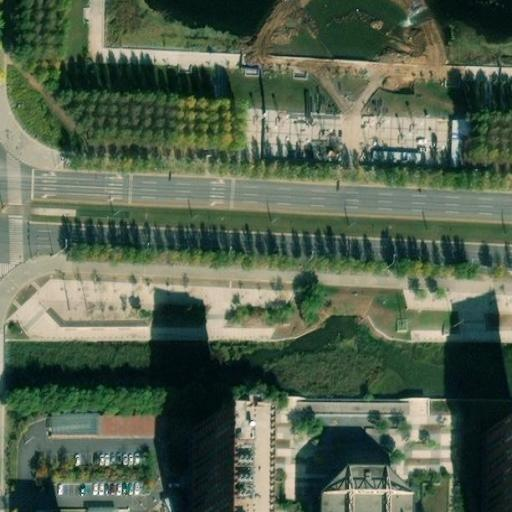building: (195, 426, 236, 512), (489, 429, 512, 512), (48, 410, 99, 433), (447, 116, 469, 166)
